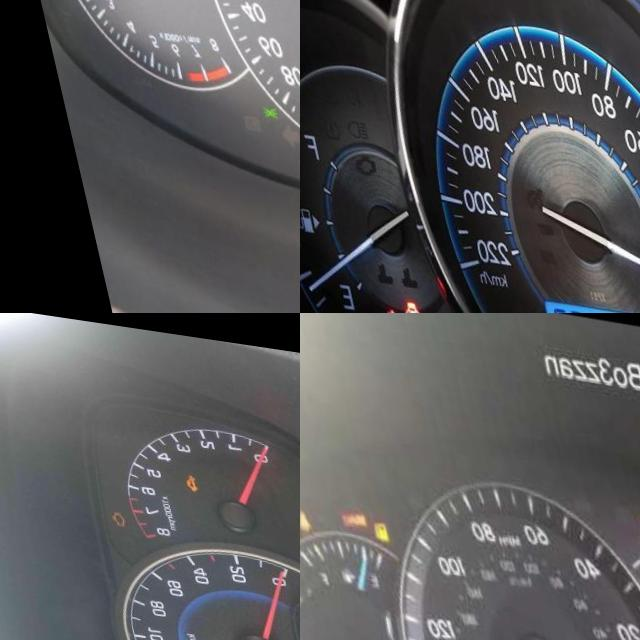Seat Belt: (363, 304, 382, 313)
